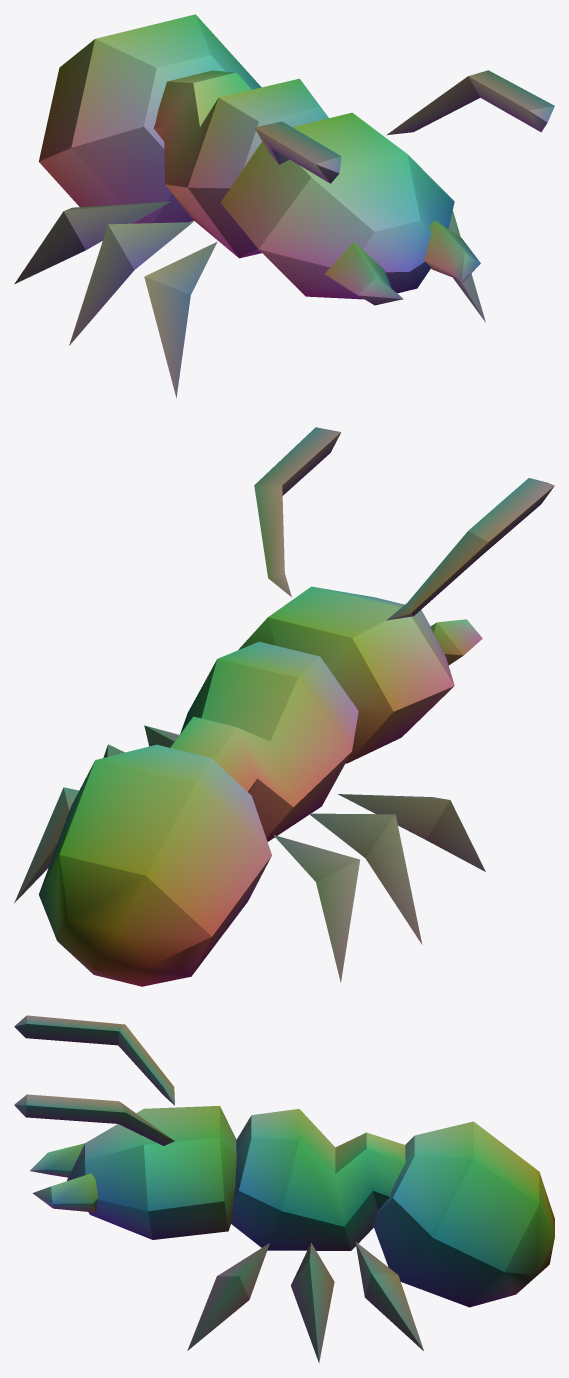
Rendered from Queen.fbx.
The picture shows the model from 3 angles, top to bottom: view 1: azimuth 30°, elevation 25°; view 2: azimuth 150°, elevation 25°; view 3: azimuth 270°, elevation 25°; orthographic projection. The views are drawn at different scales.
Visible parts, largest first — view 1: Body1; view 2: Body1; view 3: Body1.
Part boxes in pixels (<box>): Body1: <box>14,14,554,398</box>; Body1: <box>14,427,554,986</box>; Body1: <box>14,1015,554,1363</box>.
Bounding box in the file's own units: 176 × 147 × 303.
